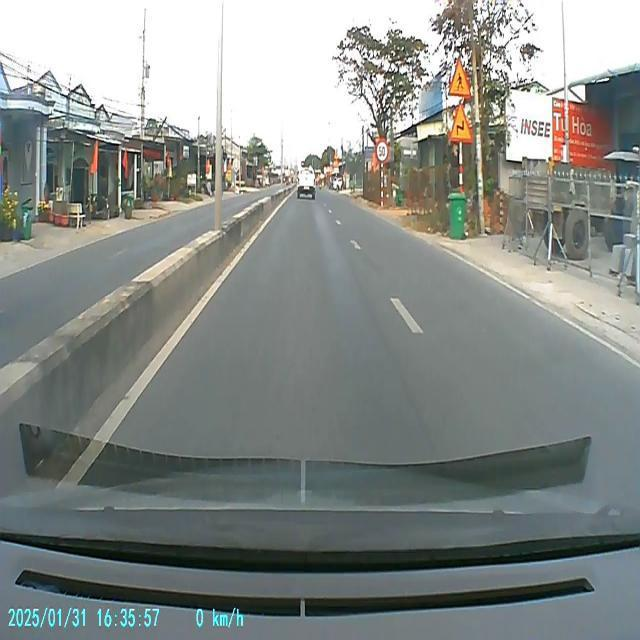127-toc-do-toi-da-50: (376, 138, 388, 162)
201-cho-ngoat-nguy-hiem: (448, 102, 474, 144)
224-duong-nguoi-di-bo-cat-ngang: (448, 57, 472, 100)
